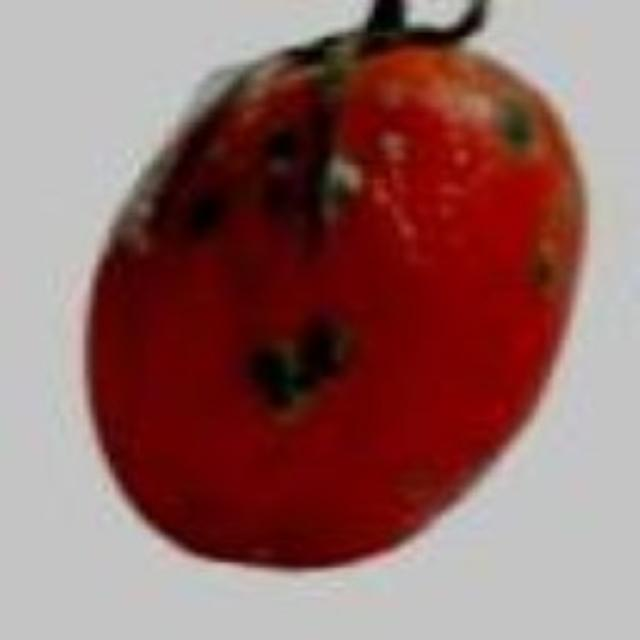defect: (83, 14, 591, 573)
